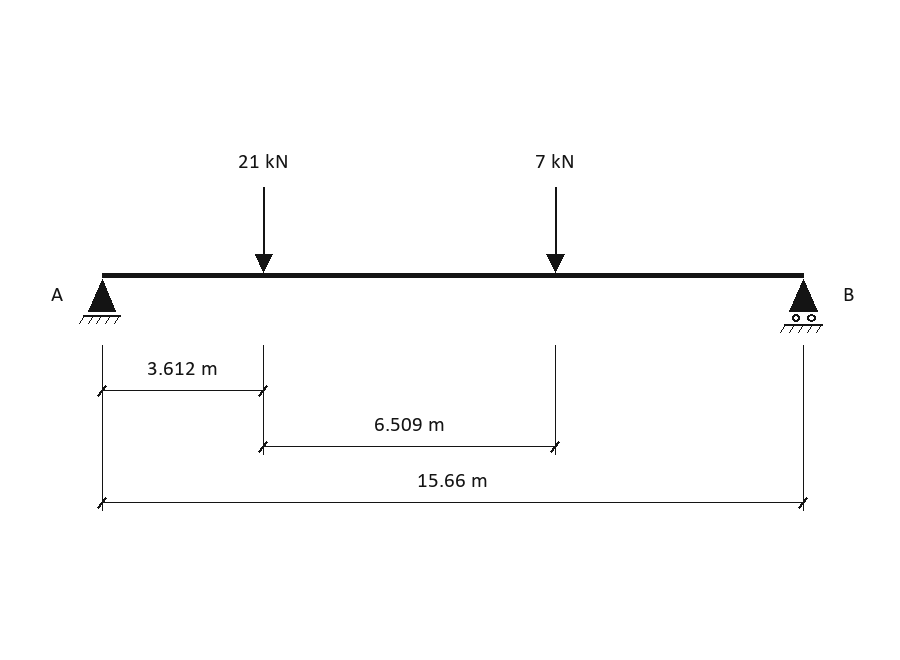pin_support: (79, 279, 121, 324)
point_load: (546, 187, 565, 273), (255, 187, 273, 273)
roller_support: (780, 279, 823, 333)
